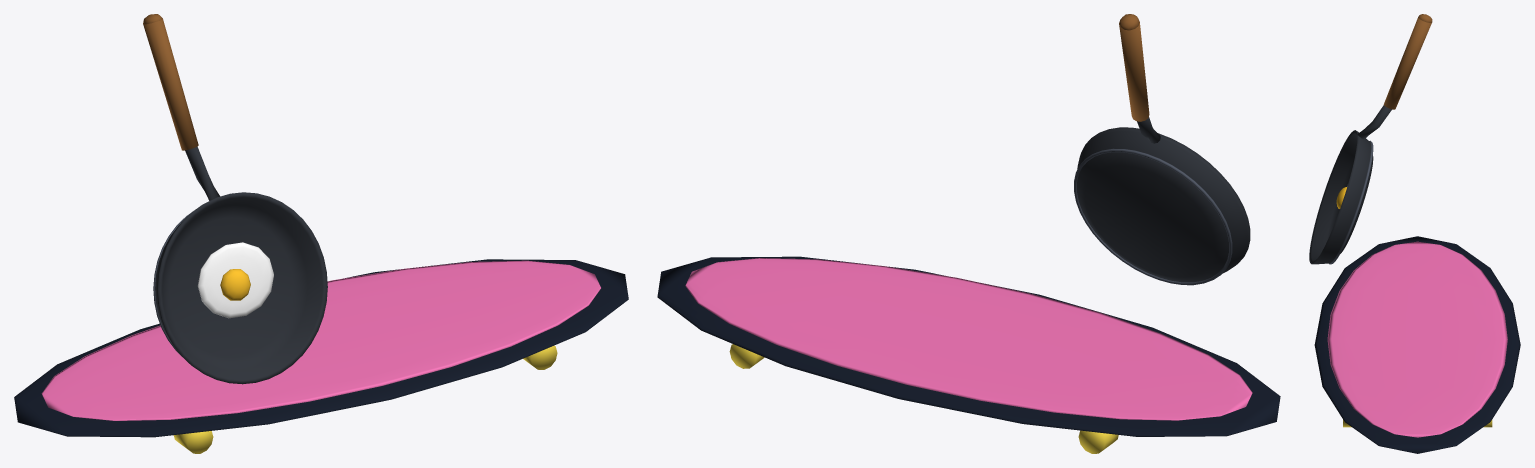
The model's file is props-y.glb.
3 renders of one model, left to right at view 1: azimuth 30°, elevation 25°; view 2: azimuth 150°, elevation 25°; view 3: azimuth 270°, elevation 25°, orthographic. The views are drawn at different scales.
Parts seen in each view (by area): view 1: y-board, y-pan, y-pan~toss; view 2: y-board, y-pan; view 3: y-board, y-pan.
Part boxes in pixels (box(x1,y1,x2,y2)): y-board: box(14, 259, 628, 453); y-pan: box(143, 14, 327, 384); y-pan~toss: box(198, 242, 273, 318); y-board: box(657, 256, 1280, 453); y-pan: box(1074, 14, 1250, 285); y-board: box(1314, 236, 1520, 453); y-pan: box(1309, 14, 1432, 264).
Bounding box in the file's own units: 0.6 × 0.3744 × 0.2463.
